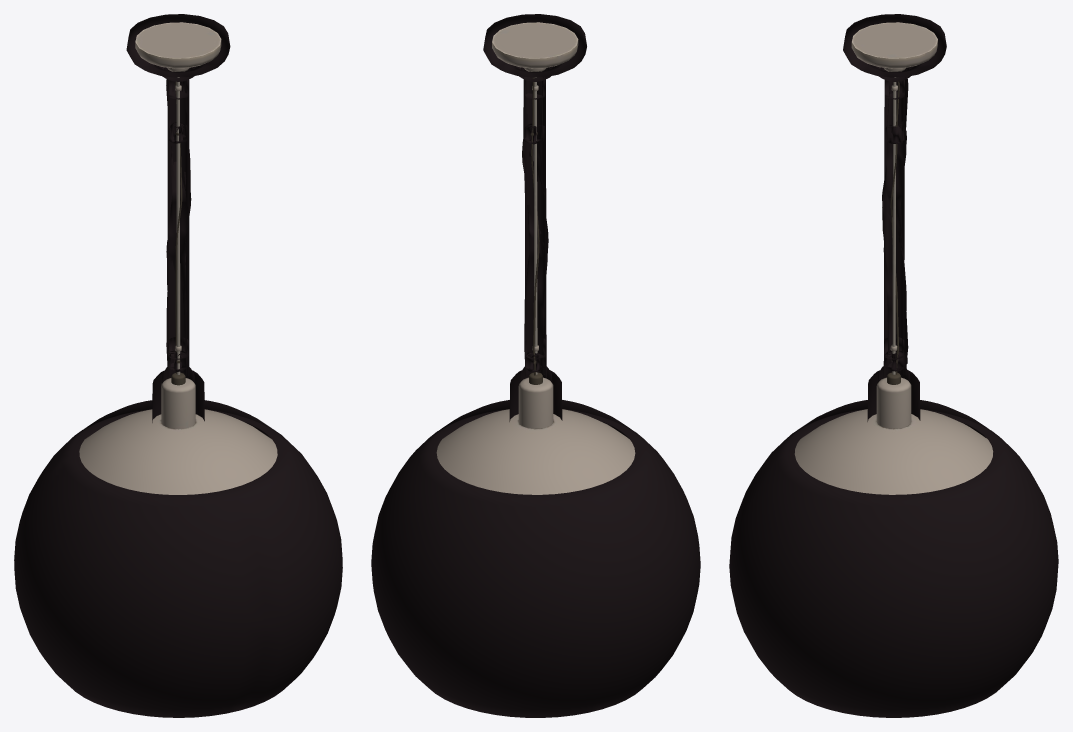
Rendered from SM_Int_CeilingLamp.fbx.
3 views of the same model, side by side, from view 1: azimuth 30°, elevation 25°; view 2: azimuth 150°, elevation 25°; view 3: azimuth 270°, elevation 25° (orthographic).
Visible parts, largest first — view 1: SM_Int_CeilingLamp; view 2: SM_Int_CeilingLamp; view 3: SM_Int_CeilingLamp.
Part boxes in pixels (bbox=[...]): SM_Int_CeilingLamp: bbox=[14, 14, 342, 717]; SM_Int_CeilingLamp: bbox=[371, 14, 700, 717]; SM_Int_CeilingLamp: bbox=[729, 14, 1058, 717].
Size of the model in its own units: 0.2882 by 0.616 by 0.2882.
